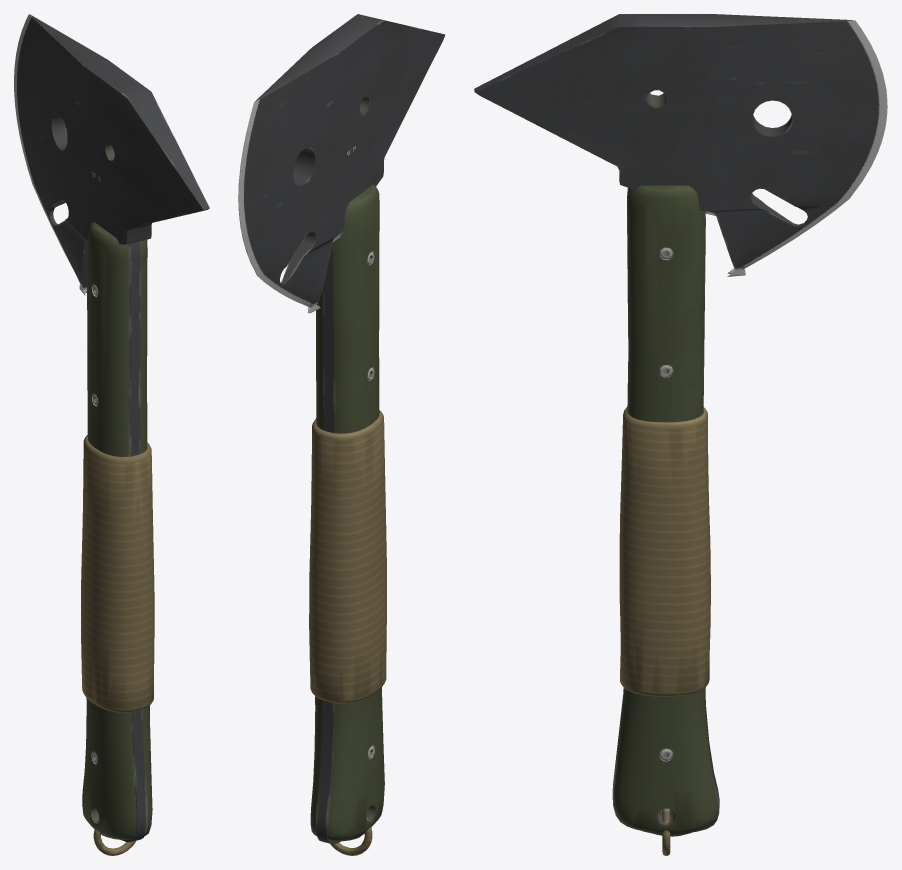
The model's file is machadinha_tatica_leve.glb.
3 views of the same model, side by side, from view 1: azimuth 30°, elevation 25°; view 2: azimuth 150°, elevation 25°; view 3: azimuth 270°, elevation 25° (orthographic). The views are drawn at different scales.
Parts seen in each view (by area): view 1: machadinha_tatica_leve; view 2: machadinha_tatica_leve; view 3: machadinha_tatica_leve.
Boxes of the visible parts, x1=… form: machadinha_tatica_leve: x1=14, y1=14, x2=209, y2=855; machadinha_tatica_leve: x1=238, y1=14, x2=445, y2=855; machadinha_tatica_leve: x1=474, y1=14, x2=887, y2=855.
Size of the model in its own units: 0.0298 by 0.3911 by 0.1756.
1 material, 1 textured.
